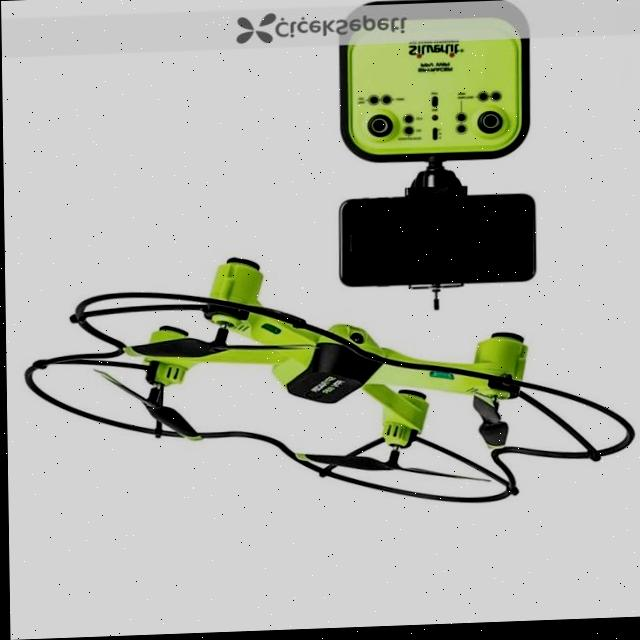drone: (28, 274, 640, 514)
